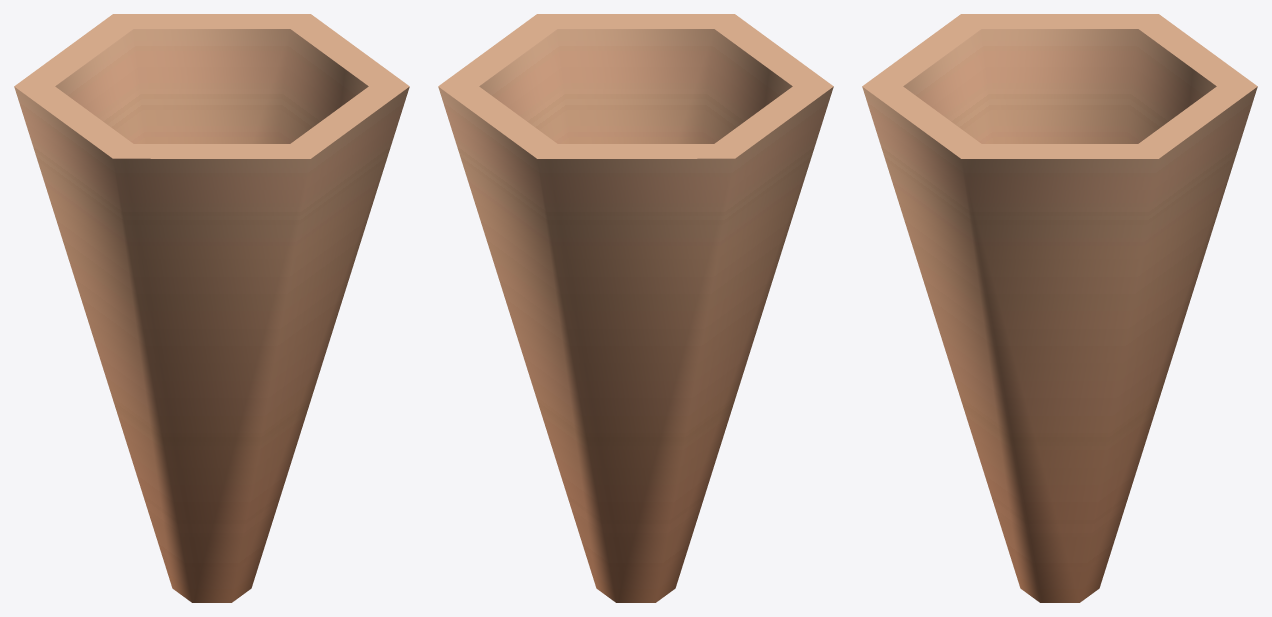
File: ice-cream-cne.glb
The picture shows the model from 3 angles, left to right: view 1: azimuth 30°, elevation 25°; view 2: azimuth 150°, elevation 25°; view 3: azimuth 270°, elevation 25°; orthographic projection.
Parts seen in each view (by area): view 1: ice-cream-cne; view 2: ice-cream-cne; view 3: ice-cream-cne.
Part boxes in pixels (bbox=[...]): ice-cream-cne: bbox=[14, 14, 409, 602]; ice-cream-cne: bbox=[438, 14, 833, 602]; ice-cream-cne: bbox=[862, 14, 1257, 602].
Size of the model in its own units: 0.1845 by 0.2982 by 0.213.
Materials: 1 (1 with a texture image).
